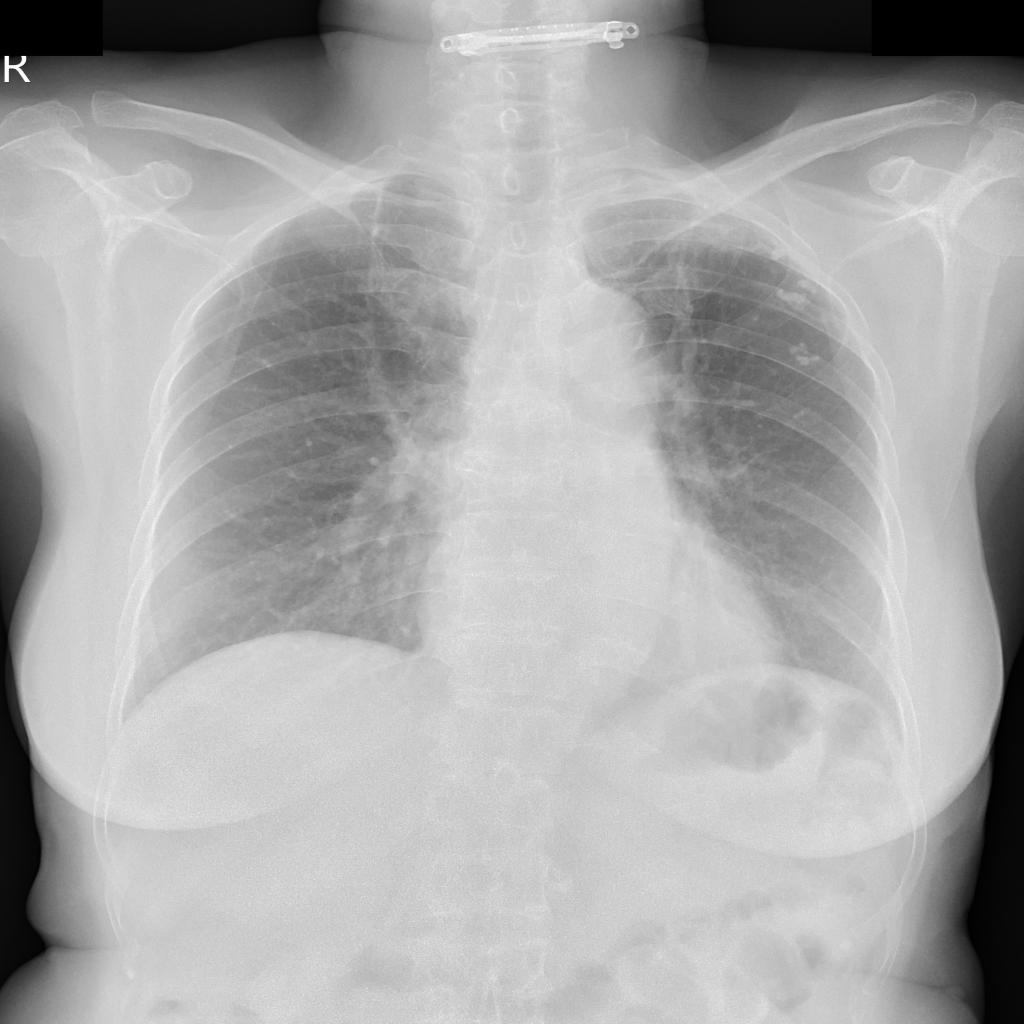Nodule: (769, 274, 820, 308), (746, 235, 791, 263), (785, 338, 821, 369)
